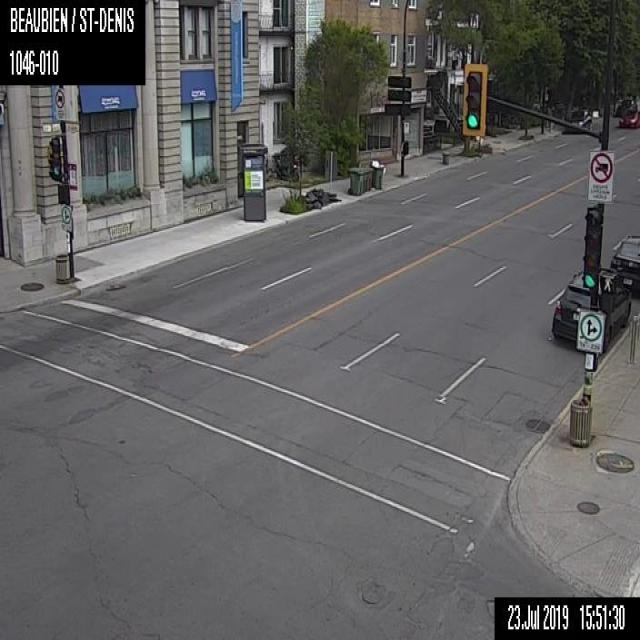vehicle: (552, 264, 631, 352), (609, 232, 639, 296), (564, 108, 591, 132), (618, 108, 639, 127), (615, 98, 636, 115)
